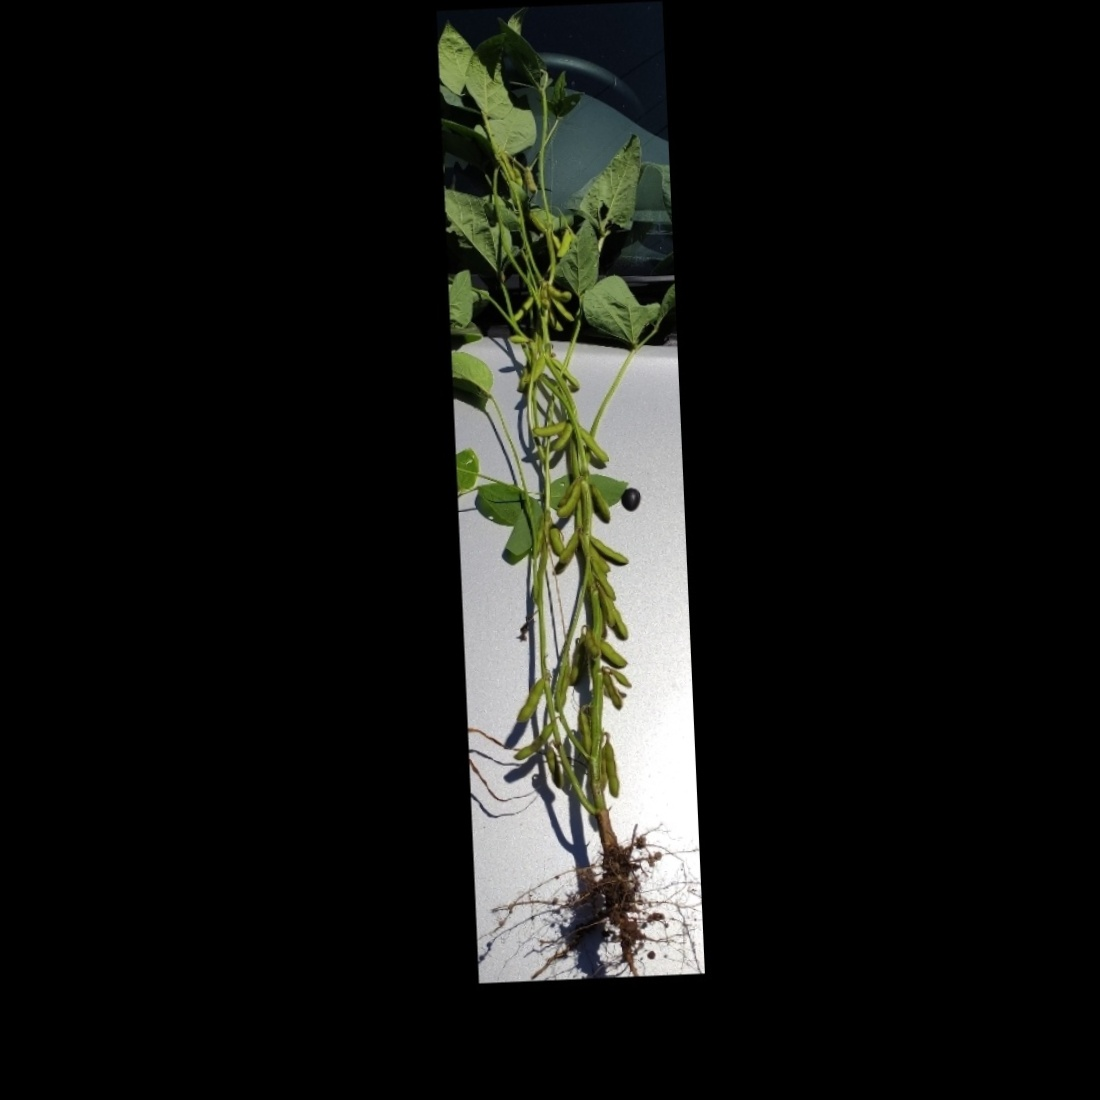pod: (514, 671, 551, 729), (511, 722, 554, 765), (583, 532, 630, 568), (599, 733, 624, 799), (552, 528, 586, 570), (580, 420, 610, 466), (588, 479, 615, 526), (553, 484, 584, 520), (600, 671, 624, 718), (600, 638, 633, 671), (528, 419, 571, 440), (545, 281, 573, 303)
soy: (444, 17, 703, 966)
